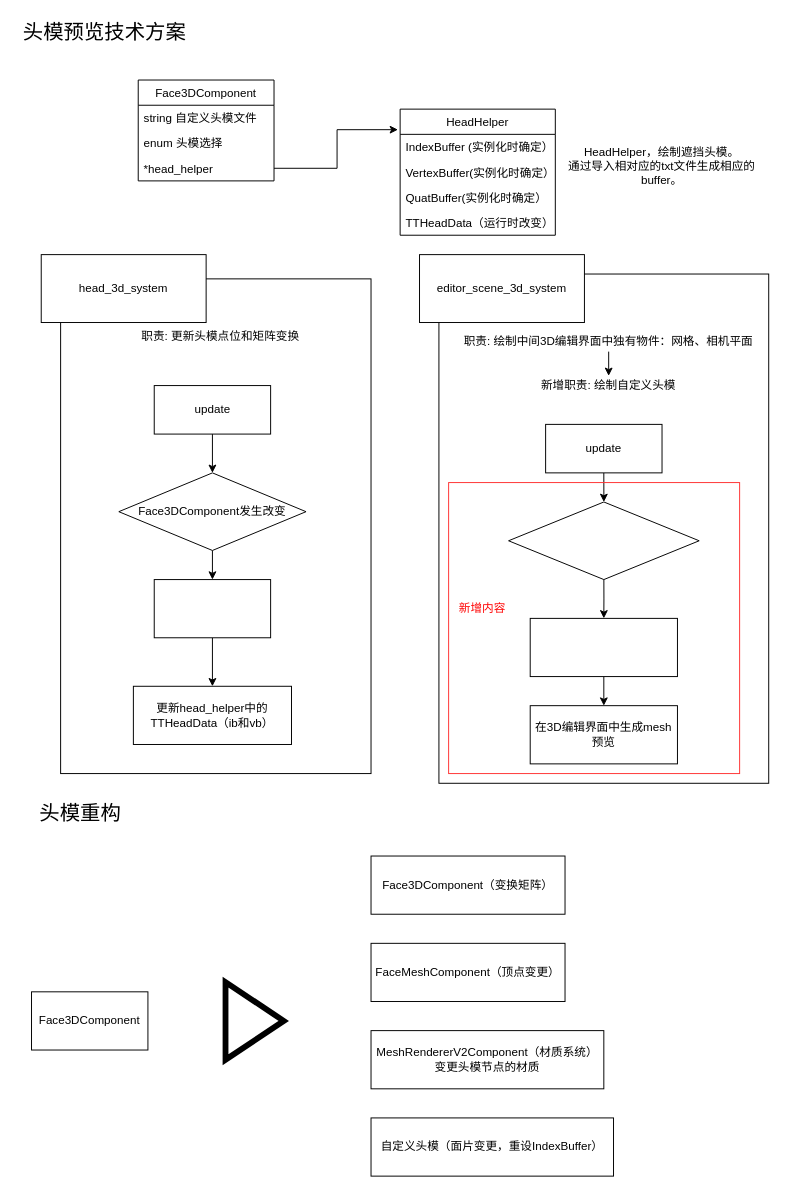
Some shapes in this 786 by 1193 pixel diagram are drawn without their labels. Here are the shapes that lost their labels. From the top down, the centre of each, then its label:
[603,540]: Face3DComponent中 head_helper指针发生改变
[212,608]: 重建head_helper
[603,647]: 读取head_helpe中的VertexBuffer、IndexBuffer和QuatBuffer
